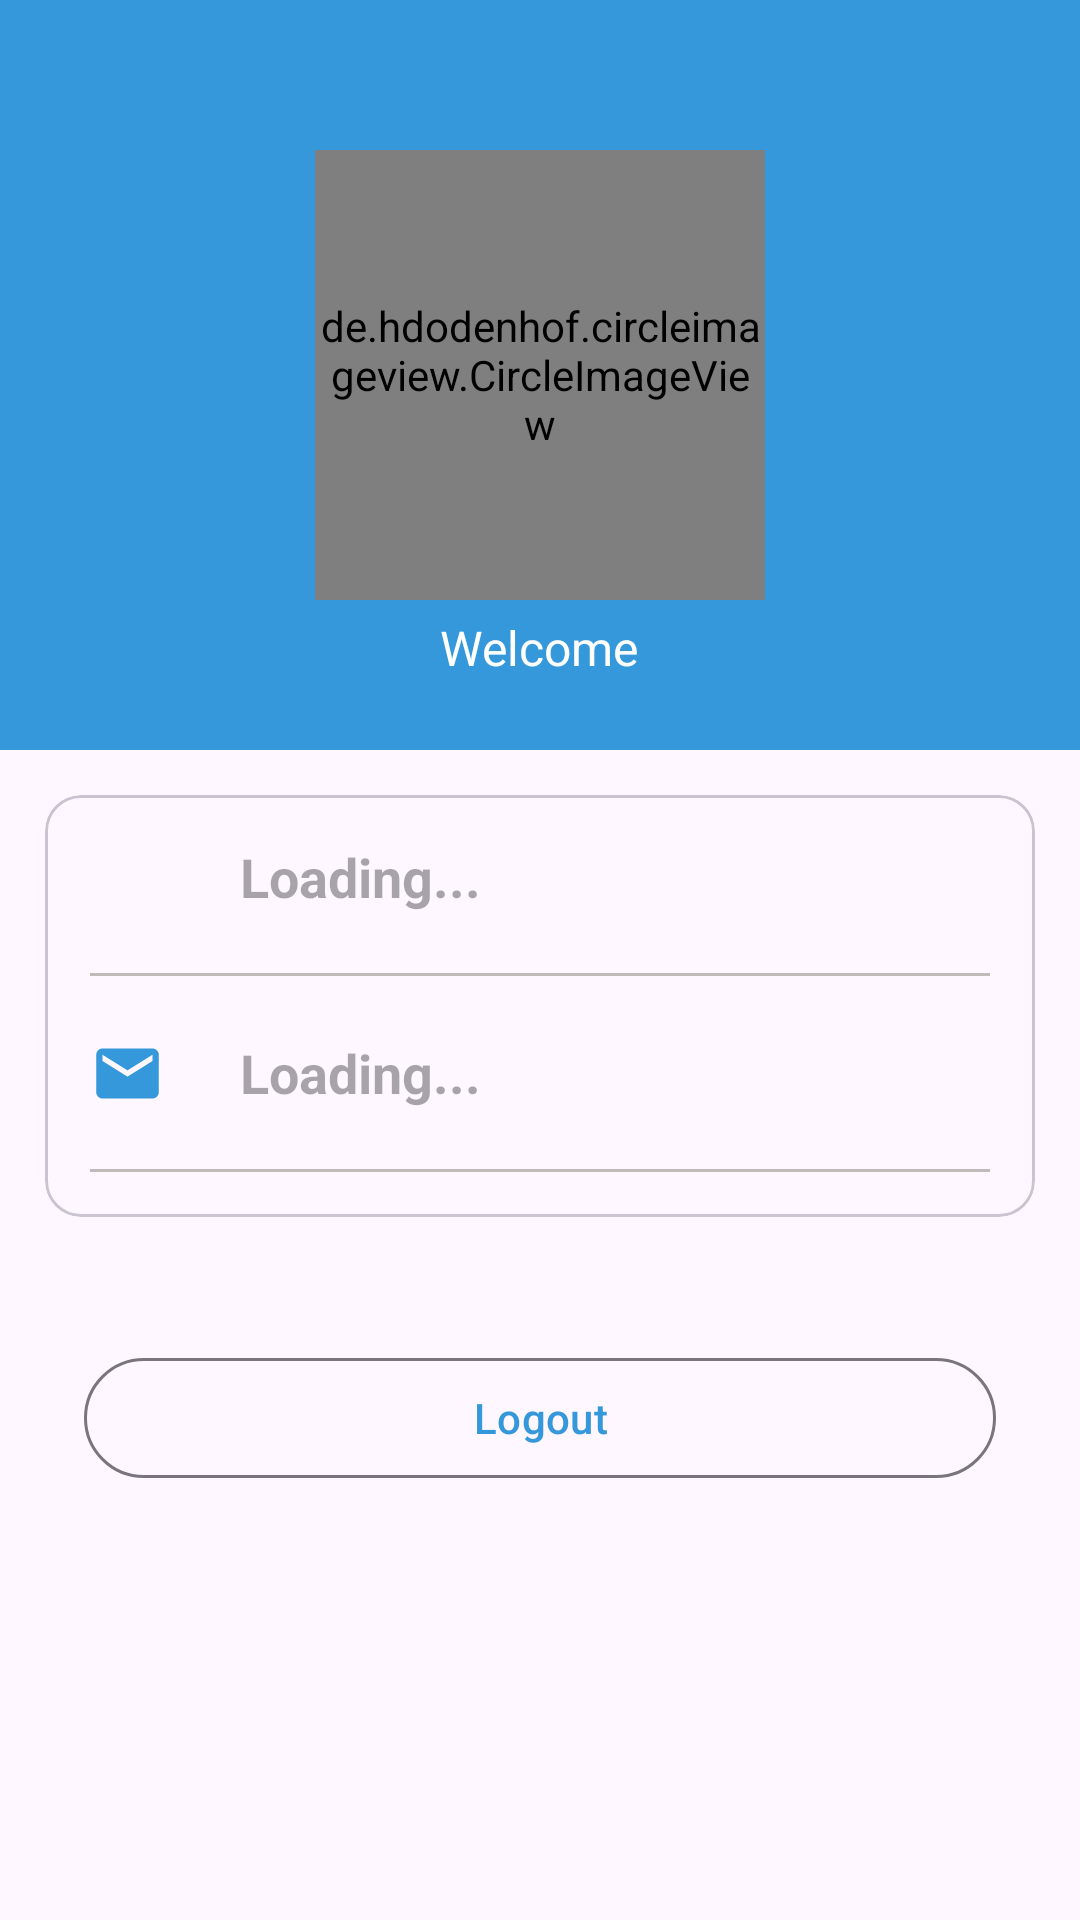

Screen size 1080w x 1920h. Icon name, then its box in pixels as [x1, y1, x2, y2]:
email: [96, 1048, 159, 1099]
